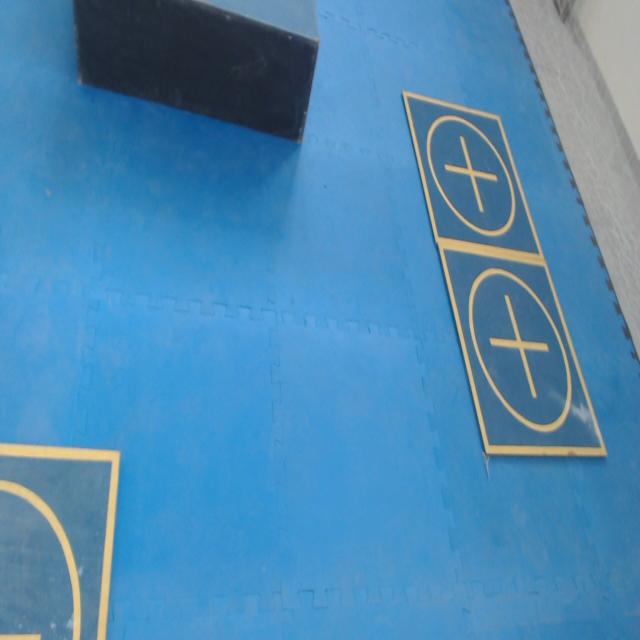base_pouso: (437, 245, 608, 459), (403, 89, 545, 260), (0, 442, 122, 639)
